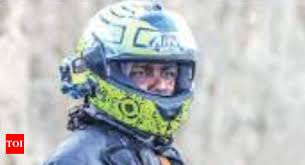helmet: (62, 1, 195, 139)
